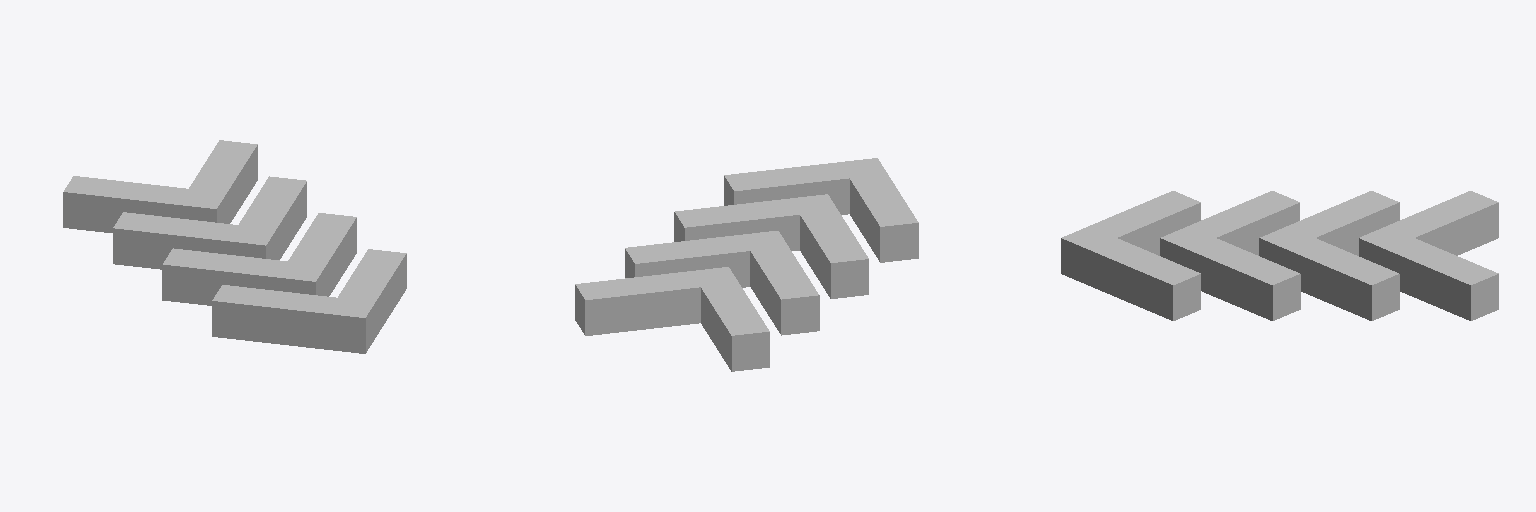
The model's file is Arrows.obj.
3 views of the same model, side by side, from view 1: azimuth 30°, elevation 25°; view 2: azimuth 150°, elevation 25°; view 3: azimuth 270°, elevation 25° (orthographic).
Parts seen in each view (by area): view 1: Cube.001_Cube.014; view 2: Cube.001_Cube.014; view 3: Cube.001_Cube.014.
Boxes of the visible parts, x1,y1,x2,y2 form: Cube.001_Cube.014: [63, 140, 406, 353]; Cube.001_Cube.014: [575, 158, 918, 371]; Cube.001_Cube.014: [1061, 191, 1498, 320].
Size of the model in its own units: 0.5665 by 0.1 by 1.1.